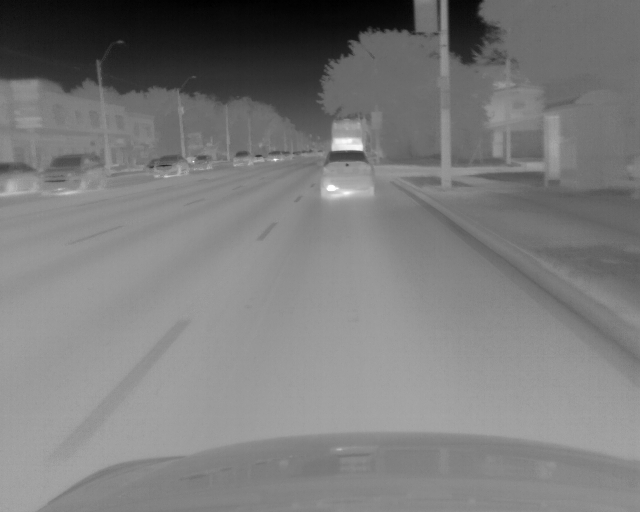car: (320, 150, 376, 199), (40, 154, 105, 195), (330, 119, 372, 153), (1, 162, 40, 194), (151, 155, 186, 178), (190, 155, 212, 171), (232, 152, 252, 168), (265, 150, 280, 162), (252, 153, 264, 164), (280, 151, 292, 161), (299, 150, 307, 157)
